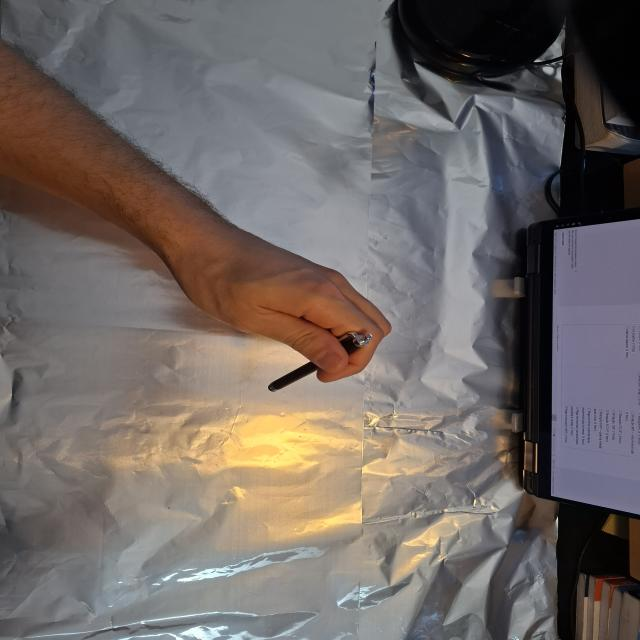glove_off: (168, 220, 395, 384)
